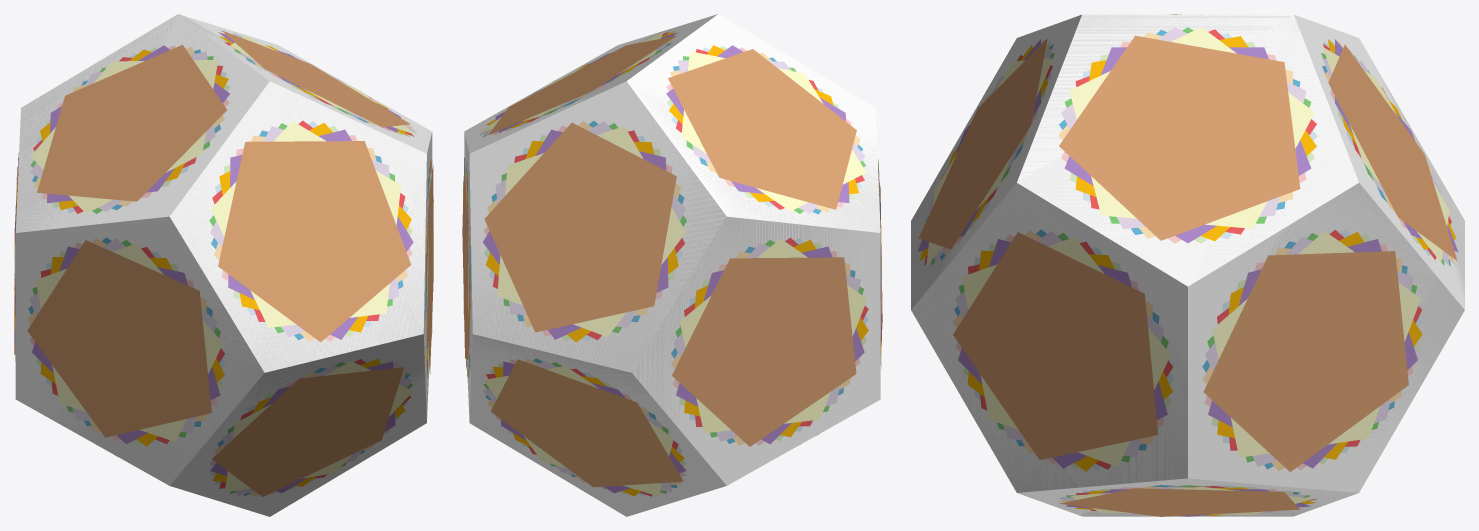
Rendered from QEGG L4.glb.
3 renders of one model, left to right at view 1: azimuth 30°, elevation 25°; view 2: azimuth 150°, elevation 25°; view 3: azimuth 270°, elevation 25°, orthographic. The views are drawn at different scales.
Visible parts, largest first — view 1: Child_4_12, QEGG_Core, Child_12_12, Child_3_12, Parent_4, Child_6_12, Parent_12, Parent_3, Parent_6, Child_1_12, Child_4_11, Child_12_11 (+17 smaller); view 2: Child_2_12, QEGG_Core, Child_11_12, Child_3_12, Parent_2, Parent_11, Child_8_12, Parent_3, Parent_8, Child_1_12, Child_2_11, Child_11_11 (+17 smaller); view 3: Child_1_12, QEGG_Core, Child_9_12, Child_10_12, Parent_1, Parent_9, Parent_10, Child_4_12, Child_2_12, Parent_2, Child_5_12, Parent_4 (+16 smaller).
Boxes of the visible parts, x1,y1,x2,y2 form: Child_4_12: (218, 141, 410, 342); QEGG_Core: (15, 14, 432, 485); Child_12_12: (27, 240, 211, 437); Child_3_12: (37, 44, 226, 201); Parent_4: (169, 81, 426, 369); Child_6_12: (212, 367, 404, 496); Parent_12: (15, 216, 262, 471); Parent_3: (16, 14, 269, 232); Parent_6: (170, 356, 426, 516); Child_1_12: (221, 30, 410, 127); Child_4_11: (211, 121, 400, 327); Child_12_11: (35, 243, 222, 441); Child_2_12: (484, 122, 676, 332); QEGG_Core: (465, 14, 880, 438); Child_11_12: (672, 257, 856, 446); Child_3_12: (668, 49, 856, 209); Parent_2: (469, 81, 726, 371); Parent_11: (632, 218, 880, 485); Child_8_12: (490, 359, 683, 487); Parent_3: (626, 14, 879, 232); Parent_8: (469, 334, 726, 516); Child_1_12: (488, 36, 675, 134); Child_2_11: (497, 126, 685, 337); Child_11_11: (679, 238, 867, 433); Child_1_12: (1059, 35, 1300, 240); QEGG_Core: (911, 14, 1464, 516); Child_9_12: (953, 232, 1158, 459); Child_10_12: (1203, 251, 1408, 471); Parent_1: (1017, 14, 1358, 286); Parent_9: (911, 183, 1187, 491); Parent_10: (1188, 186, 1451, 492); Child_4_12: (918, 38, 1047, 249); Child_2_12: (1328, 44, 1457, 260); Parent_2: (1294, 14, 1464, 309); Child_5_12: (1060, 488, 1299, 516); Parent_4: (933, 14, 1081, 282).
Bounding box in the file's own units: 1.24 × 1.24 × 1.24.
